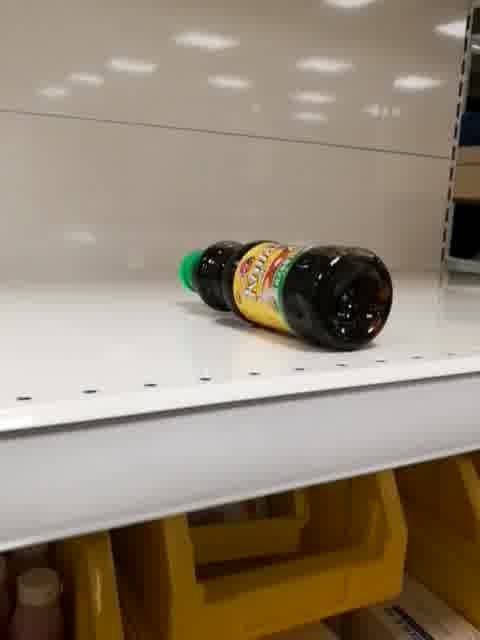cookingoil: (179, 233, 397, 357)
